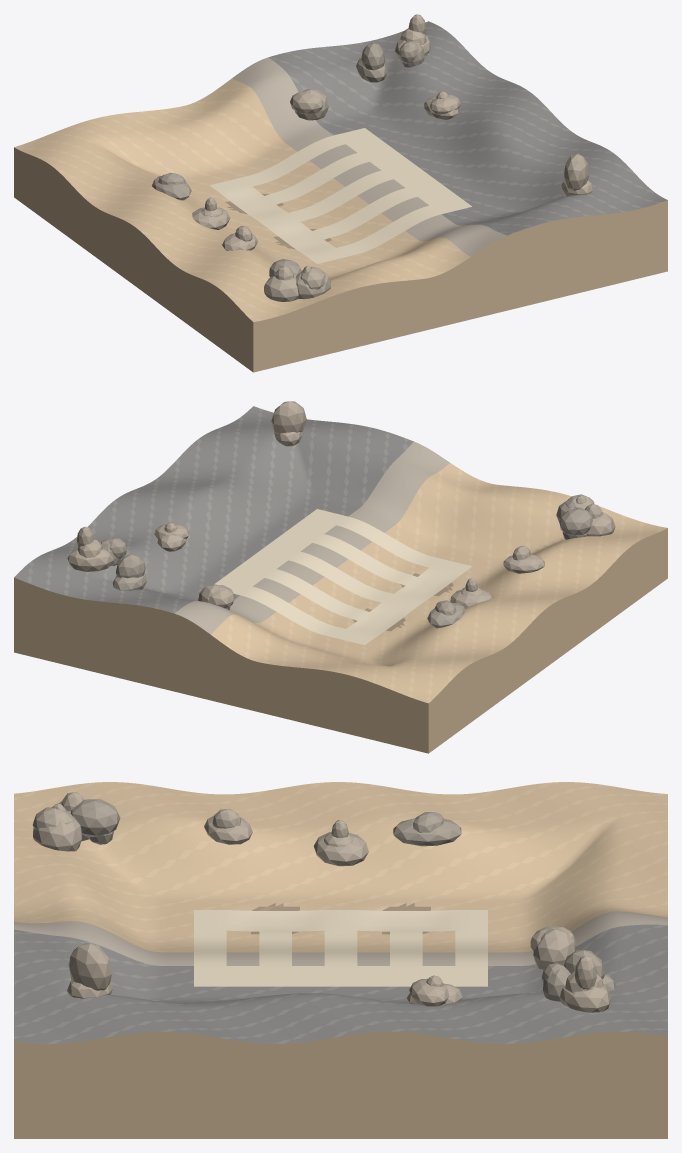
Rendered from sandstone-basin.glb.
The picture shows the model from 3 angles, top to bottom: view 1: azimuth 30°, elevation 25°; view 2: azimuth 150°, elevation 25°; view 3: azimuth 270°, elevation 25°; orthographic projection. The views are drawn at different scales.
Parts seen in each view (by area): view 1: Terrain, Rock_07, Rock_01, Rock_05, Rock_03, Rock_04, Rock_11, Rock_10, Rock_02, Rock_09, Rock_08, Rock_00; view 2: Terrain, Rock_02, Rock_07, Rock_03, Rock_06, Rock_08, Rock_11, Rock_09, Rock_10, Rock_01, Rock_05; view 3: Terrain, Rock_07, Rock_02, Rock_04, Rock_09, Rock_10, Rock_06, Rock_01, Rock_08, Rock_11, Rock_00, Rock_03.
Part boxes in pixels (x1,y1,x2,y2): Terrain: (14,21,667,372); Rock_07: (561,153,592,196); Rock_01: (290,89,328,120); Rock_05: (264,266,298,301); Rock_03: (356,42,387,82); Rock_04: (296,265,330,299); Rock_11: (424,91,460,119); Rock_10: (192,197,230,229); Rock_02: (395,14,431,59); Rock_09: (152,173,191,200); Rock_08: (222,226,257,250); Rock_00: (398,40,424,67); Terrain: (14,406,667,753); Rock_02: (67,526,113,571); Rock_07: (271,401,306,446); Rock_03: (113,554,146,590); Rock_06: (559,507,592,539); Rock_08: (503,545,544,573); Rock_11: (154,522,189,551); Rock_09: (427,600,465,628); Rock_10: (450,578,492,608); Rock_01: (198,584,234,610); Rock_05: (585,504,615,536); Terrain: (14,782,667,1138); Rock_07: (67,943,112,998); Rock_02: (560,956,610,1012); Rock_04: (32,803,81,851); Rock_09: (393,812,461,846); Rock_10: (314,820,368,866); Rock_06: (70,799,120,844); Rock_01: (530,925,575,969); Rock_08: (204,809,252,844); Rock_11: (407,975,462,1006); Rock_00: (541,963,570,1001); Rock_03: (564,950,615,991).
Bounding box in the file's own units: 20 × 5.25 × 20.
